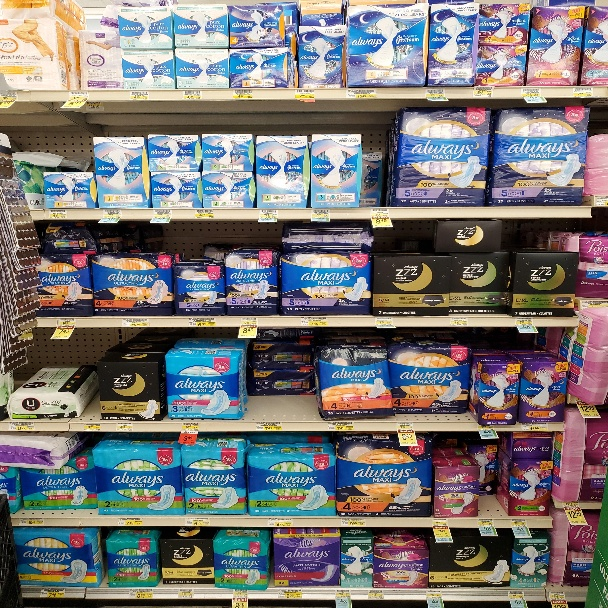All PRICE TAGS: (188, 317, 216, 327), (327, 421, 354, 431), (346, 89, 376, 98), (8, 421, 34, 431), (122, 317, 150, 326), (267, 518, 293, 527), (256, 422, 282, 431), (18, 517, 44, 526), (130, 589, 153, 599), (185, 517, 210, 526), (302, 317, 327, 326), (341, 518, 365, 527), (118, 517, 142, 526), (523, 423, 547, 432), (41, 588, 65, 597), (280, 590, 302, 599), (47, 210, 68, 219), (425, 88, 446, 97), (574, 87, 594, 96), (521, 87, 541, 96), (129, 90, 149, 99), (233, 89, 253, 98), (294, 89, 316, 97), (180, 422, 199, 431), (70, 91, 89, 100), (183, 90, 202, 99), (474, 88, 493, 97), (56, 318, 77, 326), (450, 317, 468, 326), (1, 92, 17, 102), (178, 589, 195, 598), (240, 318, 259, 326), (311, 210, 330, 218), (368, 590, 384, 599), (396, 421, 414, 429), (515, 317, 533, 325), (375, 318, 393, 326), (371, 209, 389, 217), (259, 210, 277, 218), (195, 210, 213, 218), (102, 210, 122, 217), (116, 423, 133, 431), (549, 591, 566, 599), (335, 589, 350, 598), (153, 210, 172, 217), (510, 519, 526, 527), (83, 423, 101, 430), (508, 591, 523, 599), (426, 591, 441, 599), (232, 590, 246, 598), (478, 519, 494, 526), (432, 519, 448, 526), (563, 501, 579, 508), (597, 197, 607, 206), (479, 426, 494, 431)
